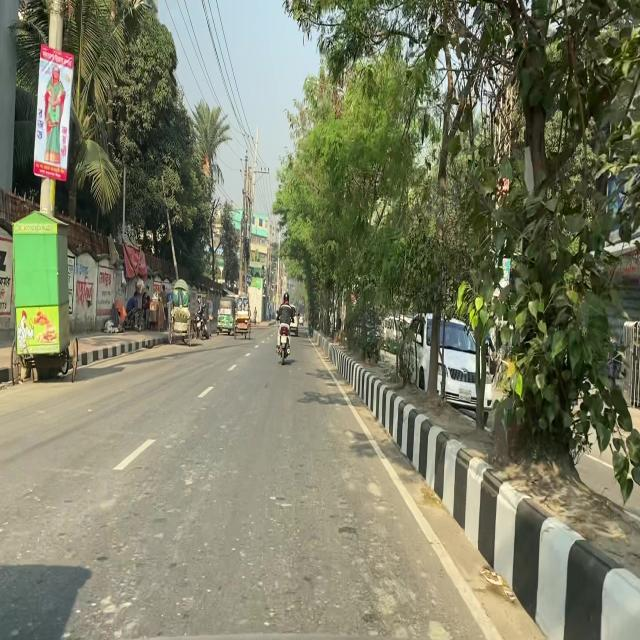car: (396, 310, 495, 432)
motorbike: (275, 309, 296, 367), (193, 300, 210, 341)
